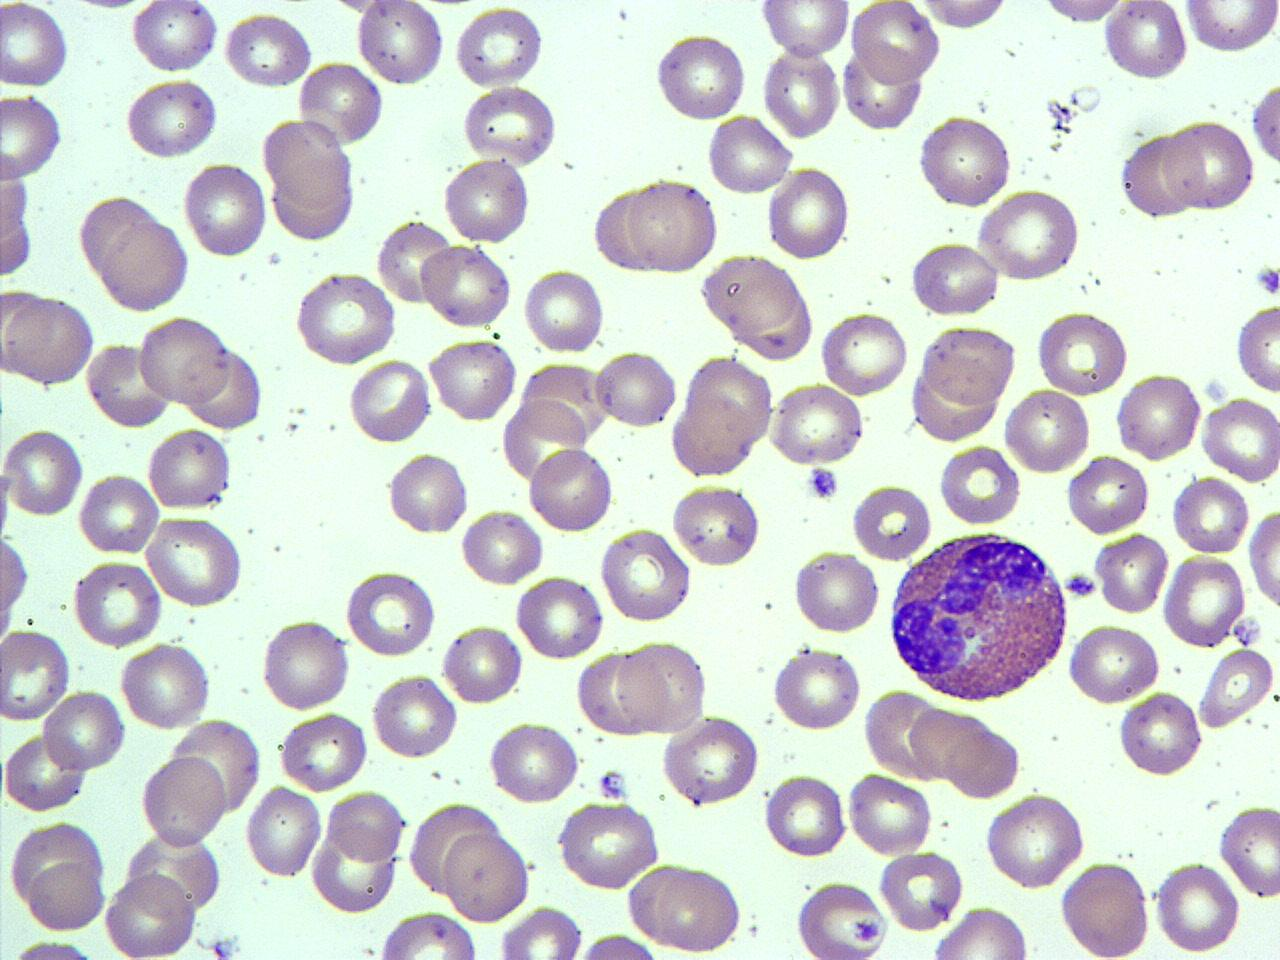Platelets: (596, 765, 630, 804), (806, 464, 838, 501), (1061, 570, 1097, 598), (1254, 263, 1280, 298), (1045, 98, 1069, 120)
RBC: (982, 791, 1088, 890), (634, 864, 746, 954), (976, 188, 1083, 282), (292, 272, 399, 366), (915, 114, 1015, 212), (556, 800, 663, 890), (1058, 858, 1154, 958), (659, 713, 761, 807), (144, 516, 247, 608), (624, 176, 720, 274), (97, 215, 192, 314), (598, 526, 692, 624), (698, 251, 804, 337), (616, 638, 710, 734), (1163, 116, 1255, 214), (182, 159, 269, 262), (310, 818, 400, 917), (670, 379, 758, 480), (119, 638, 213, 732), (258, 617, 351, 712), (3, 293, 96, 387), (653, 30, 748, 122), (1162, 551, 1248, 652), (134, 315, 229, 406), (342, 568, 438, 658), (1034, 308, 1130, 398), (686, 352, 776, 447), (139, 755, 228, 851), (1153, 858, 1241, 954), (123, 75, 221, 161), (1066, 621, 1164, 707), (1000, 385, 1091, 477), (71, 558, 164, 648), (766, 383, 866, 466), (267, 152, 357, 244), (443, 829, 530, 924), (102, 872, 198, 958), (766, 164, 852, 260), (668, 482, 764, 568), (460, 84, 560, 166), (242, 782, 324, 882), (792, 546, 882, 637), (819, 309, 911, 398), (419, 242, 512, 330), (770, 646, 864, 733), (920, 322, 1016, 407), (527, 444, 617, 534), (144, 424, 234, 514), (1114, 370, 1202, 462), (486, 720, 582, 804), (792, 877, 890, 959), (84, 340, 172, 431), (440, 156, 531, 244), (370, 672, 460, 760), (513, 574, 605, 660), (354, 1, 446, 87), (427, 337, 520, 422), (452, 5, 546, 89), (845, 771, 936, 857), (522, 264, 607, 356), (848, 1, 942, 84), (222, 8, 316, 90), (277, 710, 371, 792), (877, 847, 965, 934), (295, 60, 384, 146), (761, 45, 841, 140), (41, 686, 127, 774), (1116, 690, 1202, 778), (384, 448, 470, 536), (347, 358, 433, 445), (77, 469, 162, 557), (764, 770, 848, 859), (907, 240, 1001, 319), (704, 112, 792, 196), (3, 426, 83, 518), (440, 621, 526, 706), (592, 346, 679, 430), (458, 504, 545, 588), (1199, 394, 1280, 484), (2, 730, 87, 815), (574, 648, 654, 738), (0, 624, 72, 723), (128, 0, 221, 76), (184, 343, 264, 431), (1101, 1, 1189, 81), (1169, 472, 1251, 556), (906, 704, 994, 782), (375, 218, 453, 306), (1198, 644, 1276, 732), (938, 443, 1020, 526), (839, 50, 923, 131), (1120, 131, 1196, 220), (1066, 454, 1150, 534), (850, 481, 932, 561), (0, 1, 72, 91), (944, 722, 1023, 802), (590, 184, 659, 275), (1093, 531, 1167, 615), (1218, 802, 1280, 900), (328, 787, 404, 866), (27, 858, 107, 933), (930, 903, 1033, 959), (0, 92, 64, 182), (758, 0, 850, 61), (1182, 0, 1280, 55), (376, 908, 477, 958), (496, 906, 585, 960), (1232, 300, 1280, 395), (1157, 130, 1205, 212), (1247, 502, 1280, 612), (915, 0, 1013, 32), (1250, 73, 1280, 170), (572, 930, 663, 960), (1037, 0, 1127, 27), (0, 161, 30, 241), (0, 211, 34, 279), (1, 938, 99, 960)
WBC: (884, 524, 1072, 708)
